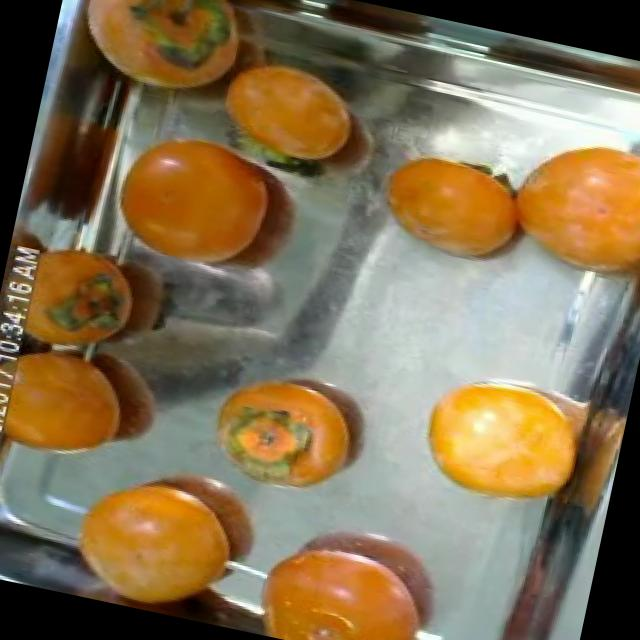Fruit: (42, 428, 286, 632), (83, 116, 316, 296), (224, 482, 468, 640), (397, 360, 607, 532), (180, 352, 386, 518), (480, 111, 640, 304), (185, 34, 381, 190), (0, 317, 173, 493), (358, 137, 534, 279), (47, 0, 262, 114), (0, 224, 152, 363)
